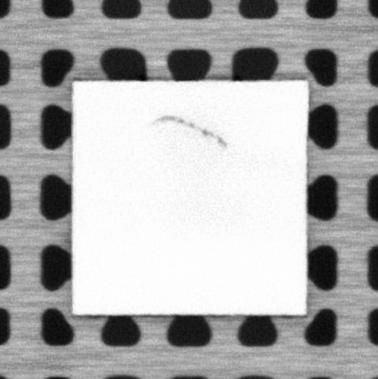DIE_INK: (158, 114, 229, 148)
